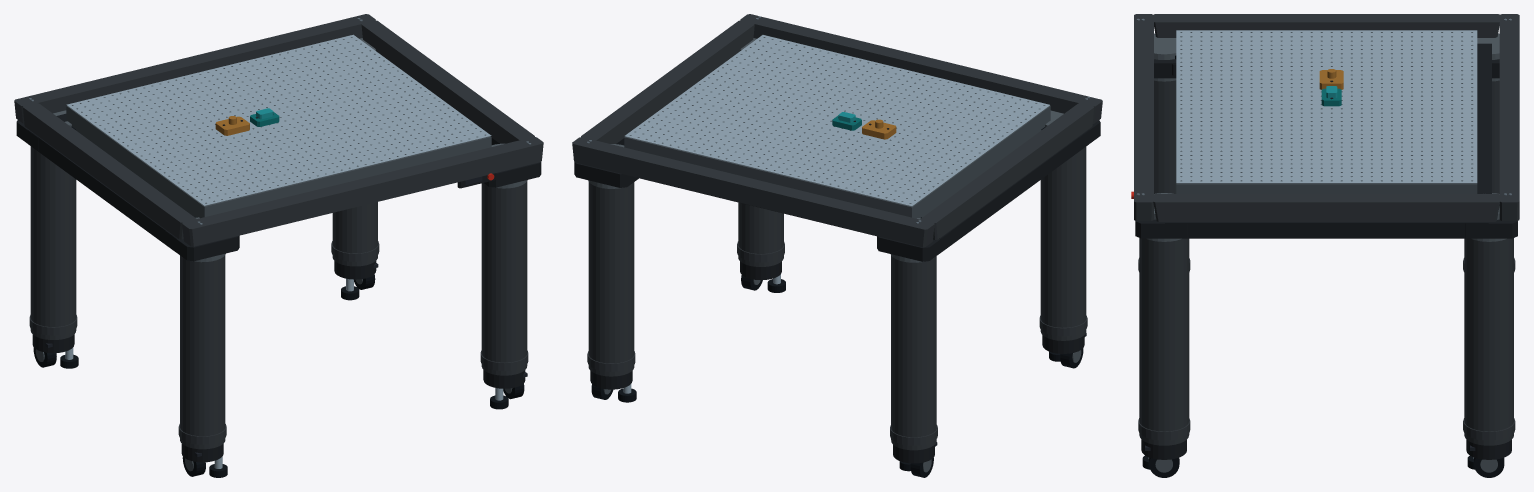
Rendered from sciencedesk-sdpm7590.glb.
The picture shows the model from 3 angles, left to right: view 1: azimuth 30°, elevation 25°; view 2: azimuth 150°, elevation 25°; view 3: azimuth 270°, elevation 25°; orthographic projection. The views are drawn at different scales.
Visible parts, largest first — view 1: breadboard, legs, frame, casters; view 2: breadboard, legs, frame, casters; view 3: breadboard, frame, legs, casters, mount_A.
Boxes of the visible parts, <box> form: breadboard: <box>66,34,491,218</box>; legs: <box>16,38,541,462</box>; frame: <box>14,14,543,246</box>; casters: <box>33,263,527,477</box>; breadboard: <box>624,35,1050,218</box>; legs: <box>574,38,1100,463</box>; frame: <box>572,14,1102,248</box>; casters: <box>591,274,1086,477</box>; breadboard: <box>1176,30,1477,193</box>; frame: <box>1134,14,1519,238</box>; legs: <box>1135,33,1517,459</box>; casters: <box>1142,445,1504,477</box>; mount_A: <box>1319,69,1343,89</box>.
Bounding box in the file's own units: 1.11 × 0.817 × 0.9677.
